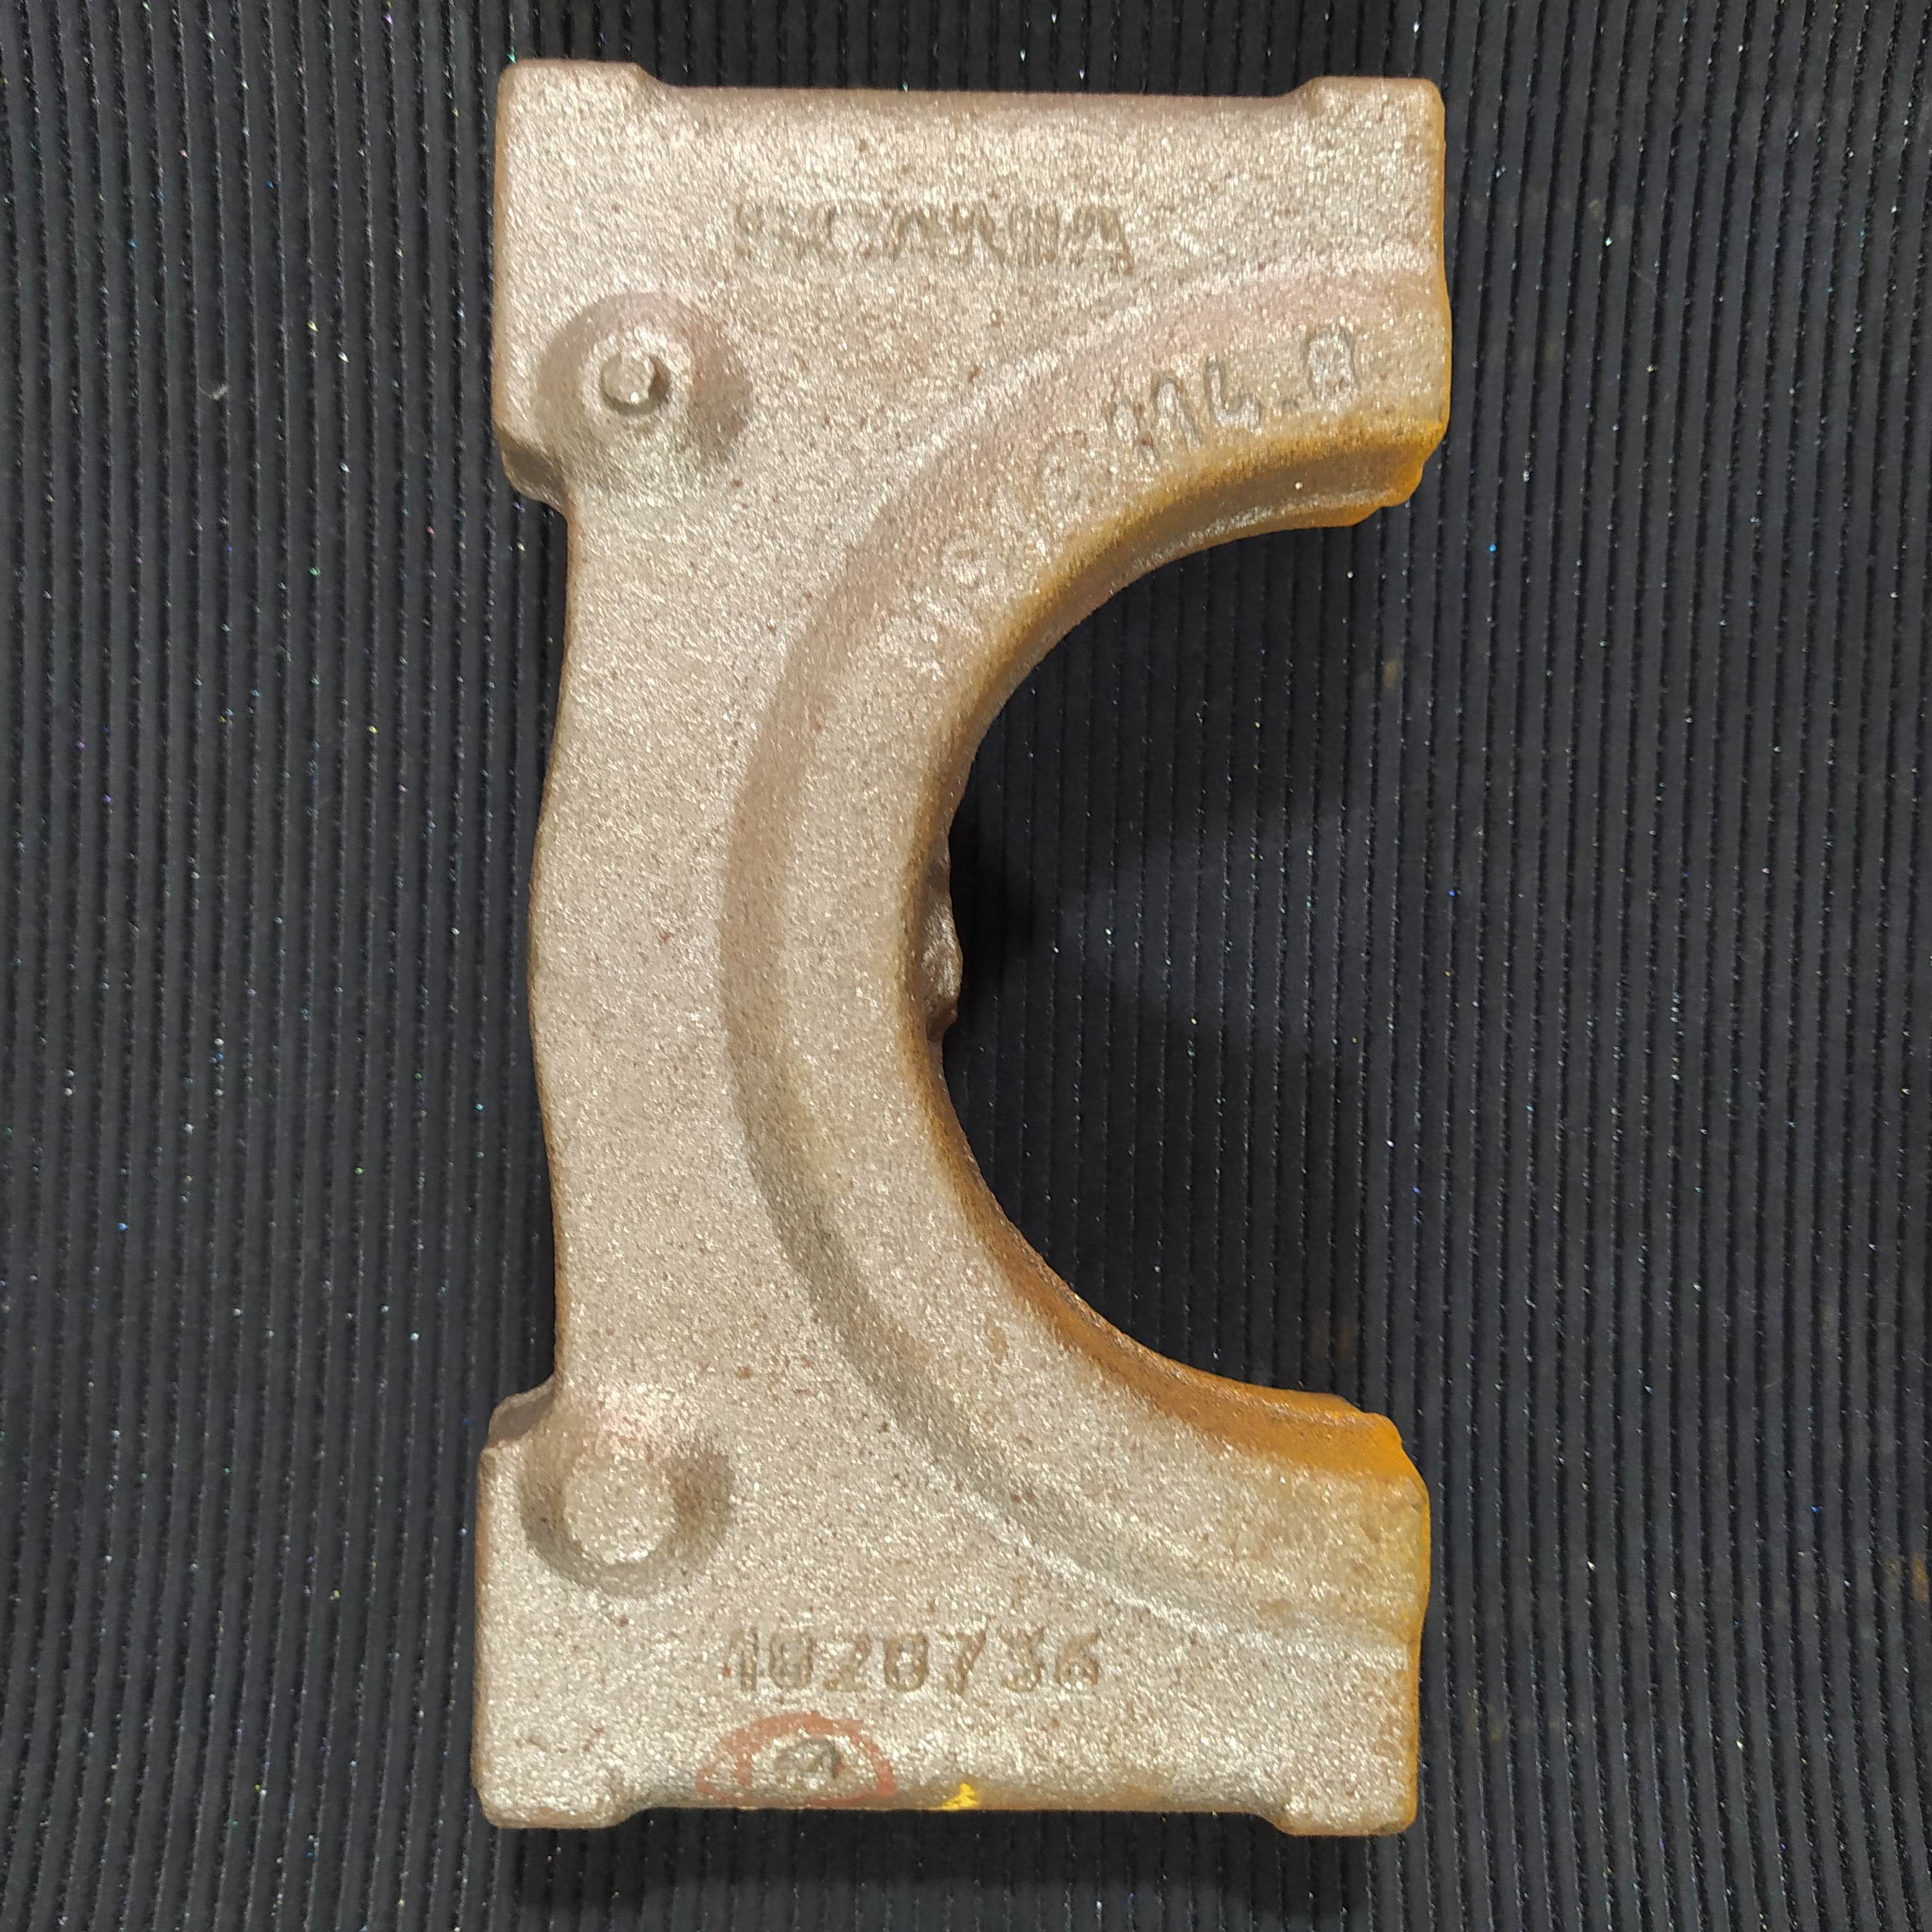buraco: (777, 1737, 846, 1799)
